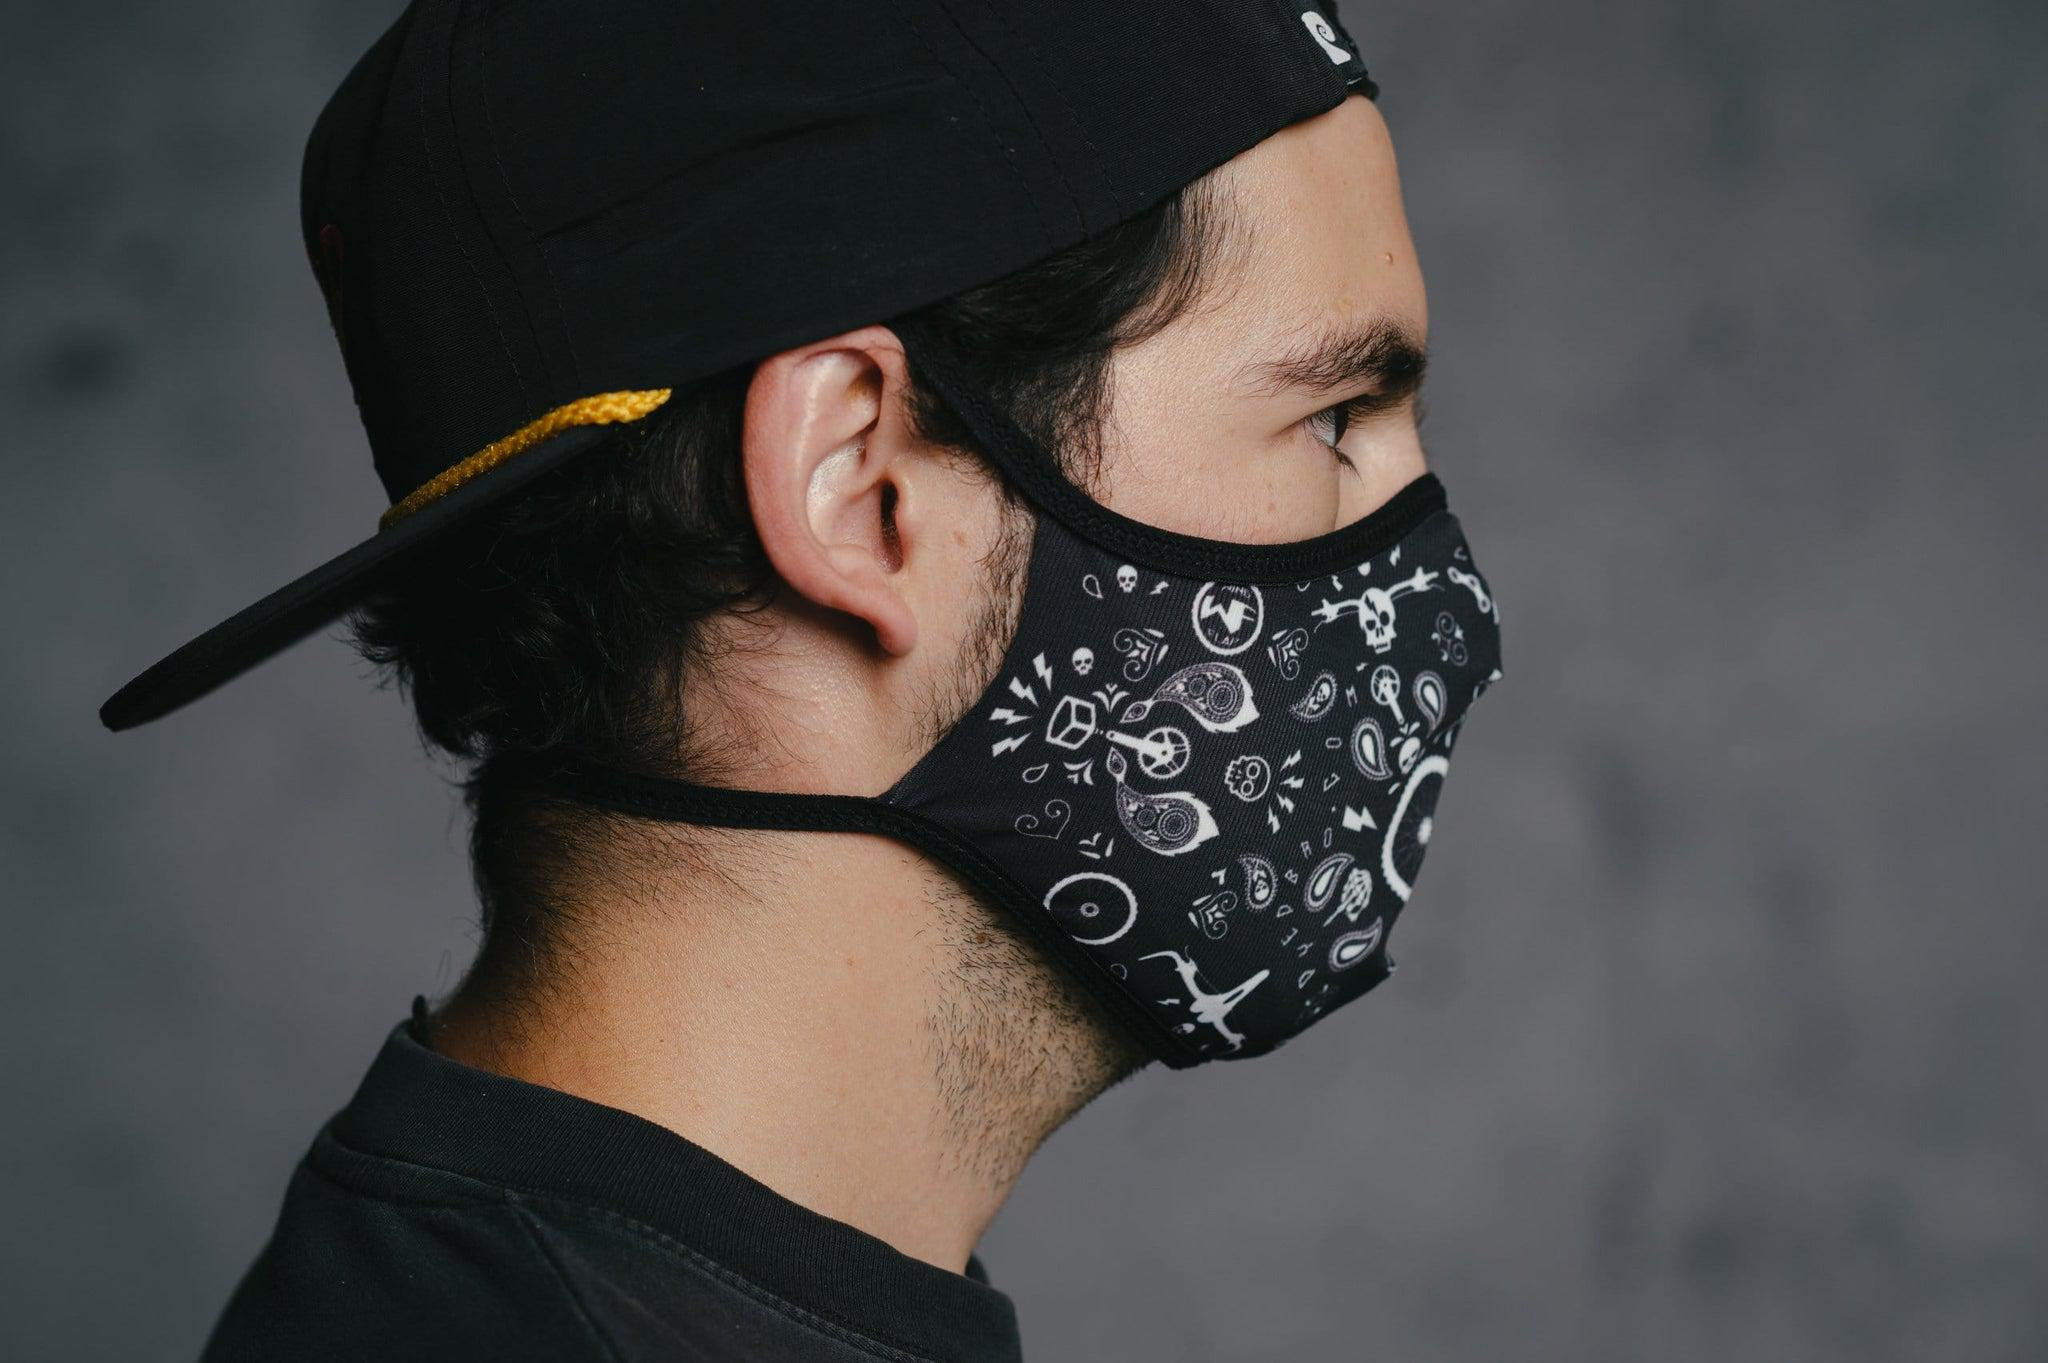with_mask: (219, 1, 1527, 1093)
